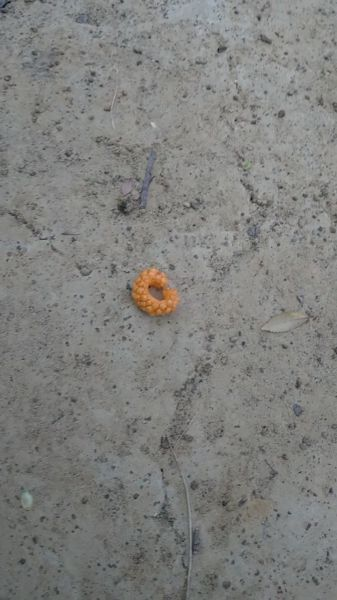eggs: (131, 265, 180, 315)
